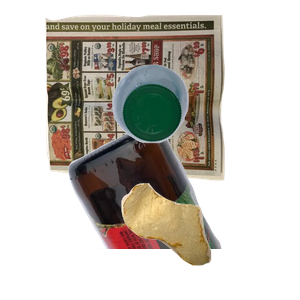glass: (66, 120, 300, 300)
paper: (42, 12, 260, 185)
plastic: (110, 62, 300, 198)
trash: (119, 181, 300, 300)
